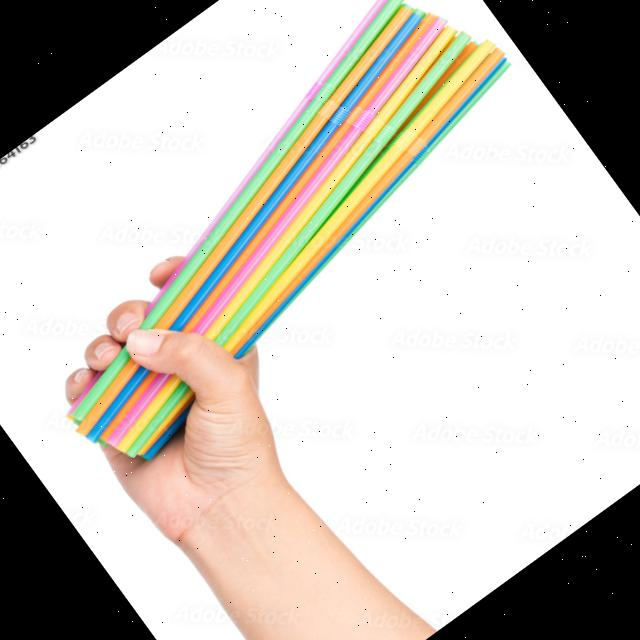plastic: (196, 30, 512, 274)
